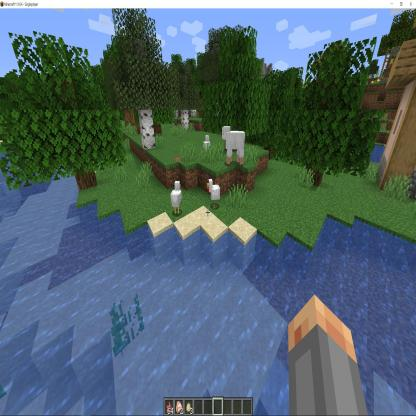minecraft-pigs: (170, 177, 184, 217), (206, 175, 221, 212), (202, 134, 210, 162)
